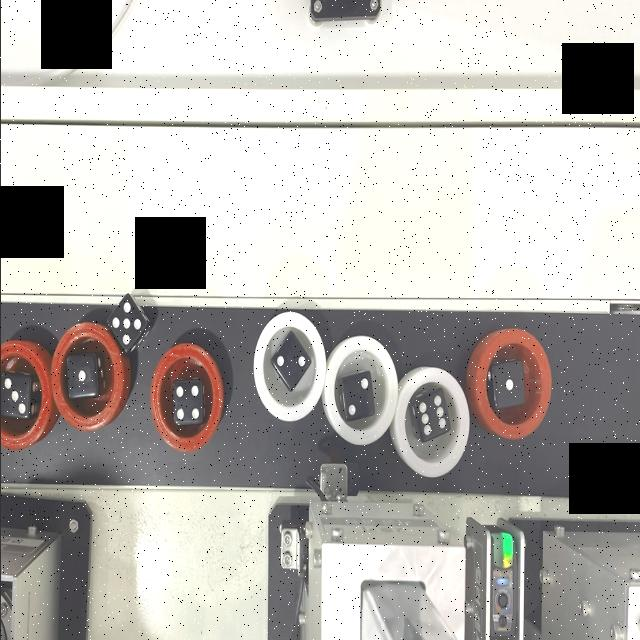DICE1: (495, 365, 523, 407), (69, 358, 96, 401)
DICE2: (344, 377, 376, 423), (274, 342, 306, 384)
DICE3: (1, 377, 28, 418)
DICE4: (174, 381, 202, 424)
DICE5: (110, 301, 146, 350)
DICE6: (416, 394, 446, 436)
RedChip: (474, 327, 550, 437), (150, 344, 220, 449), (49, 326, 120, 428), (0, 346, 49, 455)
WhiteChip: (395, 368, 471, 478), (252, 313, 326, 424), (324, 336, 396, 444)
